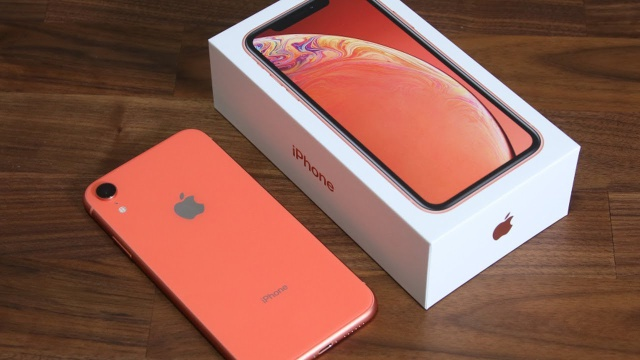apple: (159, 188, 232, 239)
